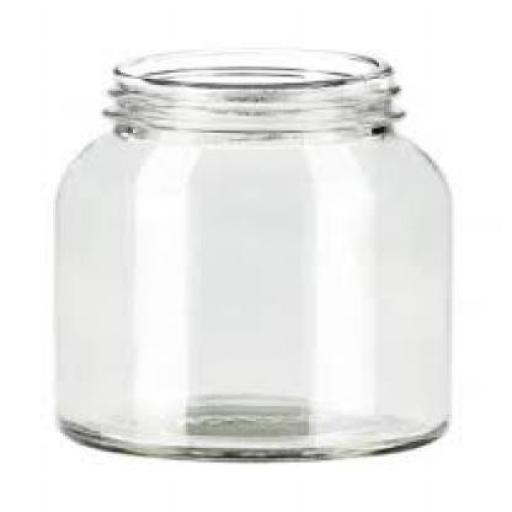glass: (50, 48, 444, 458)
